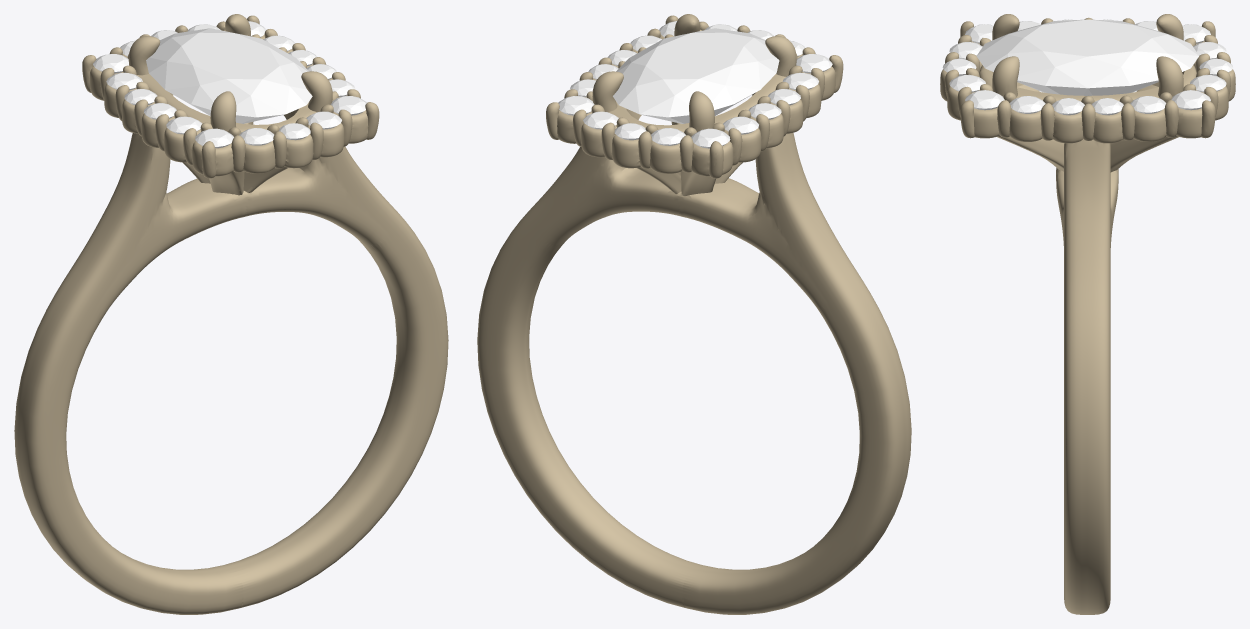
The model's file is single.glb.
The picture shows the model from 3 angles, left to right: view 1: azimuth 30°, elevation 25°; view 2: azimuth 150°, elevation 25°; view 3: azimuth 270°, elevation 25°; orthographic projection.
Visible parts, largest first — view 1: Metal_01, PART_CS_0001; view 2: Metal_01, PART_CS_0001; view 3: Metal_01, PART_CS_0001, PART_SS_0001_17, PART_SS_0001_8, PART_SS_0001_10, PART_SS_0001_19, PART_SS_0001_16, PART_SS_0001_7, PART_SS_0001_18, PART_SS_0001_9.
Boxes of the visible parts, left/top/right/bottom form: Metal_01: left=14, top=14, right=448, bottom=614; PART_CS_0001: left=146, top=28, right=312, bottom=123; Metal_01: left=477, top=14, right=911, bottom=614; PART_CS_0001: left=613, top=28, right=779, bottom=123; Metal_01: left=940, top=14, right=1235, bottom=614; PART_CS_0001: left=976, top=19, right=1198, bottom=95; PART_SS_0001_17: left=965, top=90, right=1004, bottom=110; PART_SS_0001_8: left=1171, top=90, right=1210, bottom=110; PART_SS_0001_10: left=1130, top=96, right=1166, bottom=113; PART_SS_0001_19: left=1009, top=96, right=1045, bottom=113; PART_SS_0001_16: left=949, top=74, right=985, bottom=92; PART_SS_0001_7: left=1190, top=74, right=1226, bottom=92; PART_SS_0001_18: left=1052, top=98, right=1084, bottom=115; PART_SS_0001_9: left=1091, top=98, right=1123, bottom=115.
Size of the model in its own units: 2.34 by 2.92 by 1.41.
